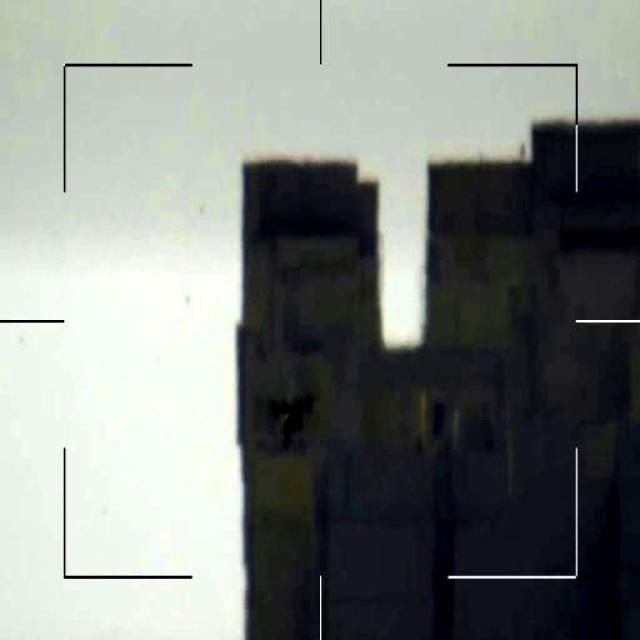bird: (261, 390, 321, 458)
